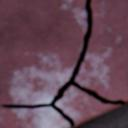brick: (0, 0, 86, 105), (74, 0, 127, 102), (55, 86, 127, 127), (0, 107, 69, 127)
crack: (0, 0, 127, 127)
